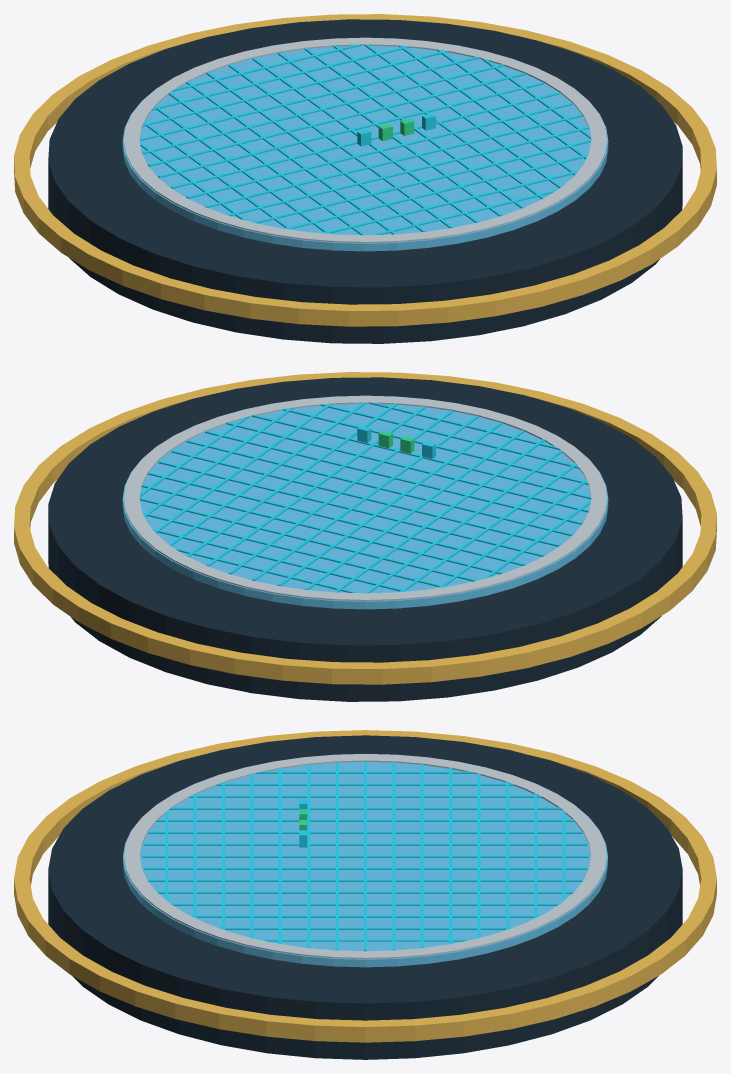
The model's file is 44_L78_RotatingCureWaferPlaten.fbx.
The picture shows the model from 3 angles, top to bottom: view 1: azimuth 30°, elevation 25°; view 2: azimuth 150°, elevation 25°; view 3: azimuth 270°, elevation 25°; orthographic projection.
Parts seen in each view (by area): view 1: RotatingCureWaferPlaten; view 2: RotatingCureWaferPlaten; view 3: RotatingCureWaferPlaten.
Part boxes in pixels (x1,y1,x2,y2): RotatingCureWaferPlaten: [14, 14, 716, 343]; RotatingCureWaferPlaten: [14, 372, 716, 701]; RotatingCureWaferPlaten: [14, 730, 716, 1059].
Bounding box in the file's own units: 226 × 38.56 × 226.
